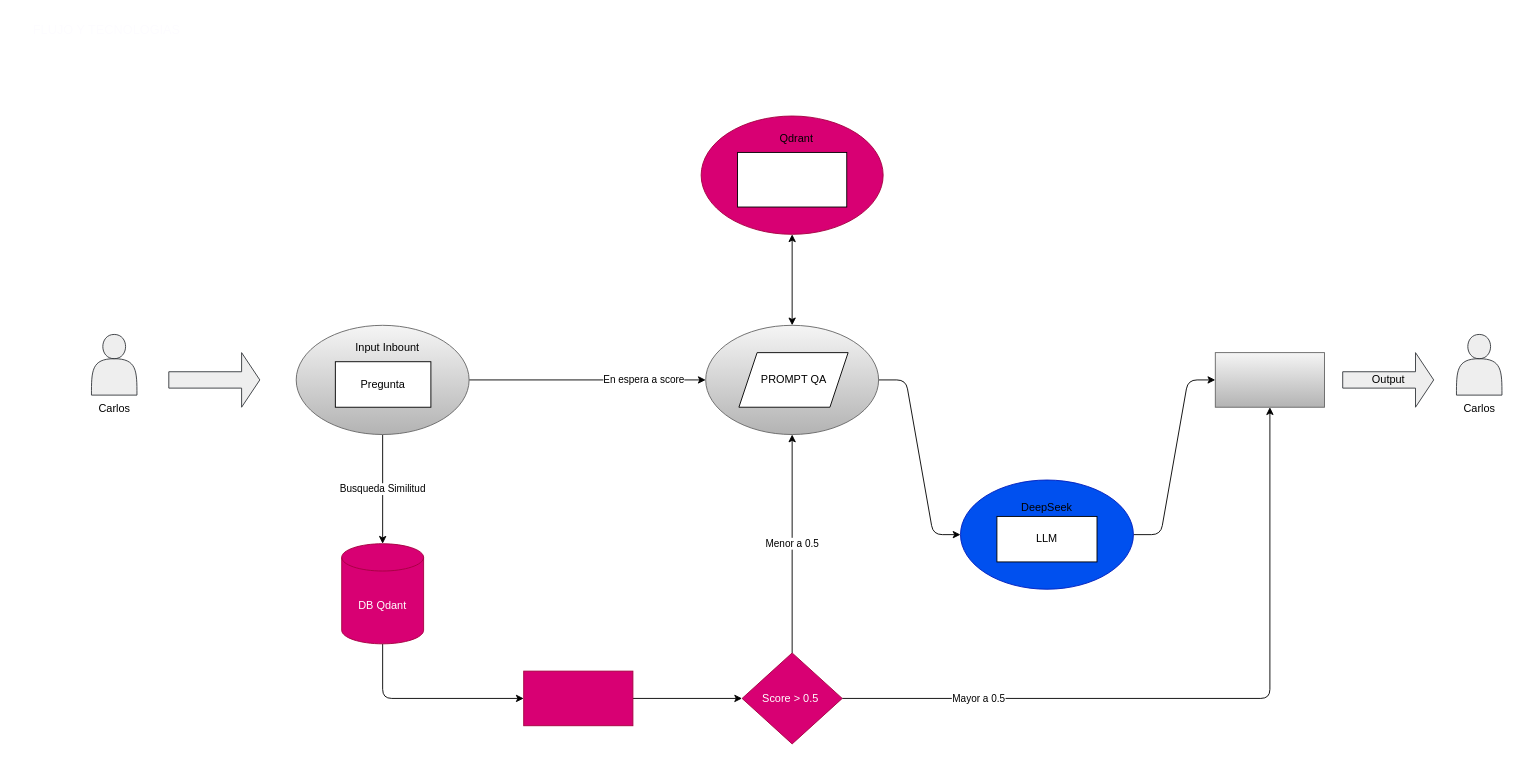
Image size: 1522x760. Some labels were removed from this diagram. Here are the shapes that lost their labels. From the top down, the centre of each, then its label:
(x=792, y=179): Historial
(x=1269, y=379): Respuesta Generada
(x=578, y=698): Chunk
